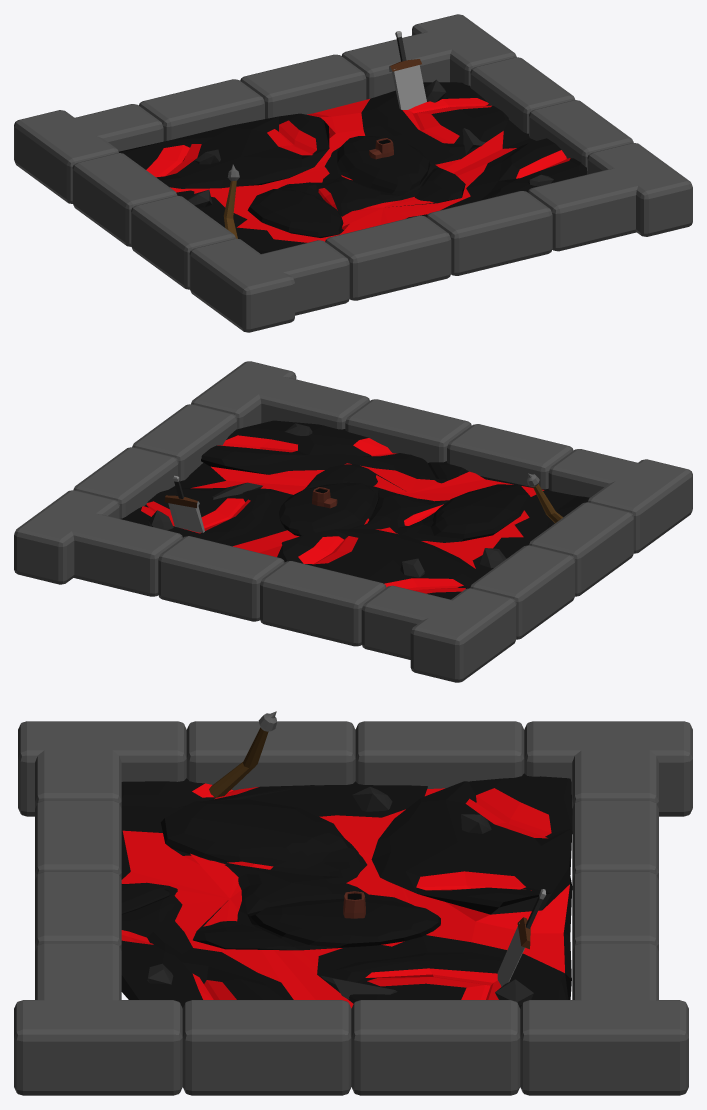
The model's file is firetrap222210.fbx.
The picture shows the model from 3 angles, top to bottom: view 1: azimuth 30°, elevation 25°; view 2: azimuth 150°, elevation 25°; view 3: azimuth 270°, elevation 25°; orthographic projection. The views are drawn at different scales.
Parts seen in each view (by area): view 1: Cube, Cube.017, Cube.019, Cylinder; view 2: Cube, Cube.017, Cube.019, Cylinder; view 3: Cube, Cube.017, Cylinder, Cube.019, Cube.018, Icosphere.024, Icosphere.004, Cube.020.
Boxes of the visible parts, x1,y1,x2,y2 form: Cube: (14,14,692,332); Cube.017: (119,82,587,253); Cube.019: (389,31,426,109); Cylinder: (223,164,239,238); Cube: (14,361,692,682); Cube.017: (121,420,589,599); Cube.019: (164,475,204,532); Cylinder: (526,473,562,523); Cube: (14,721,692,1095); Cube.017: (121,773,572,1008); Cylinder: (209,711,277,797); Cube.019: (497,889,546,986); Cube.018: (321,975,397,999); Icosphere.024: (352,787,392,811); Icosphere.004: (495,979,533,1005); Cube.020: (343,891,365,918).
Size of the model in its own units: 471 by 428 by 91.37.
